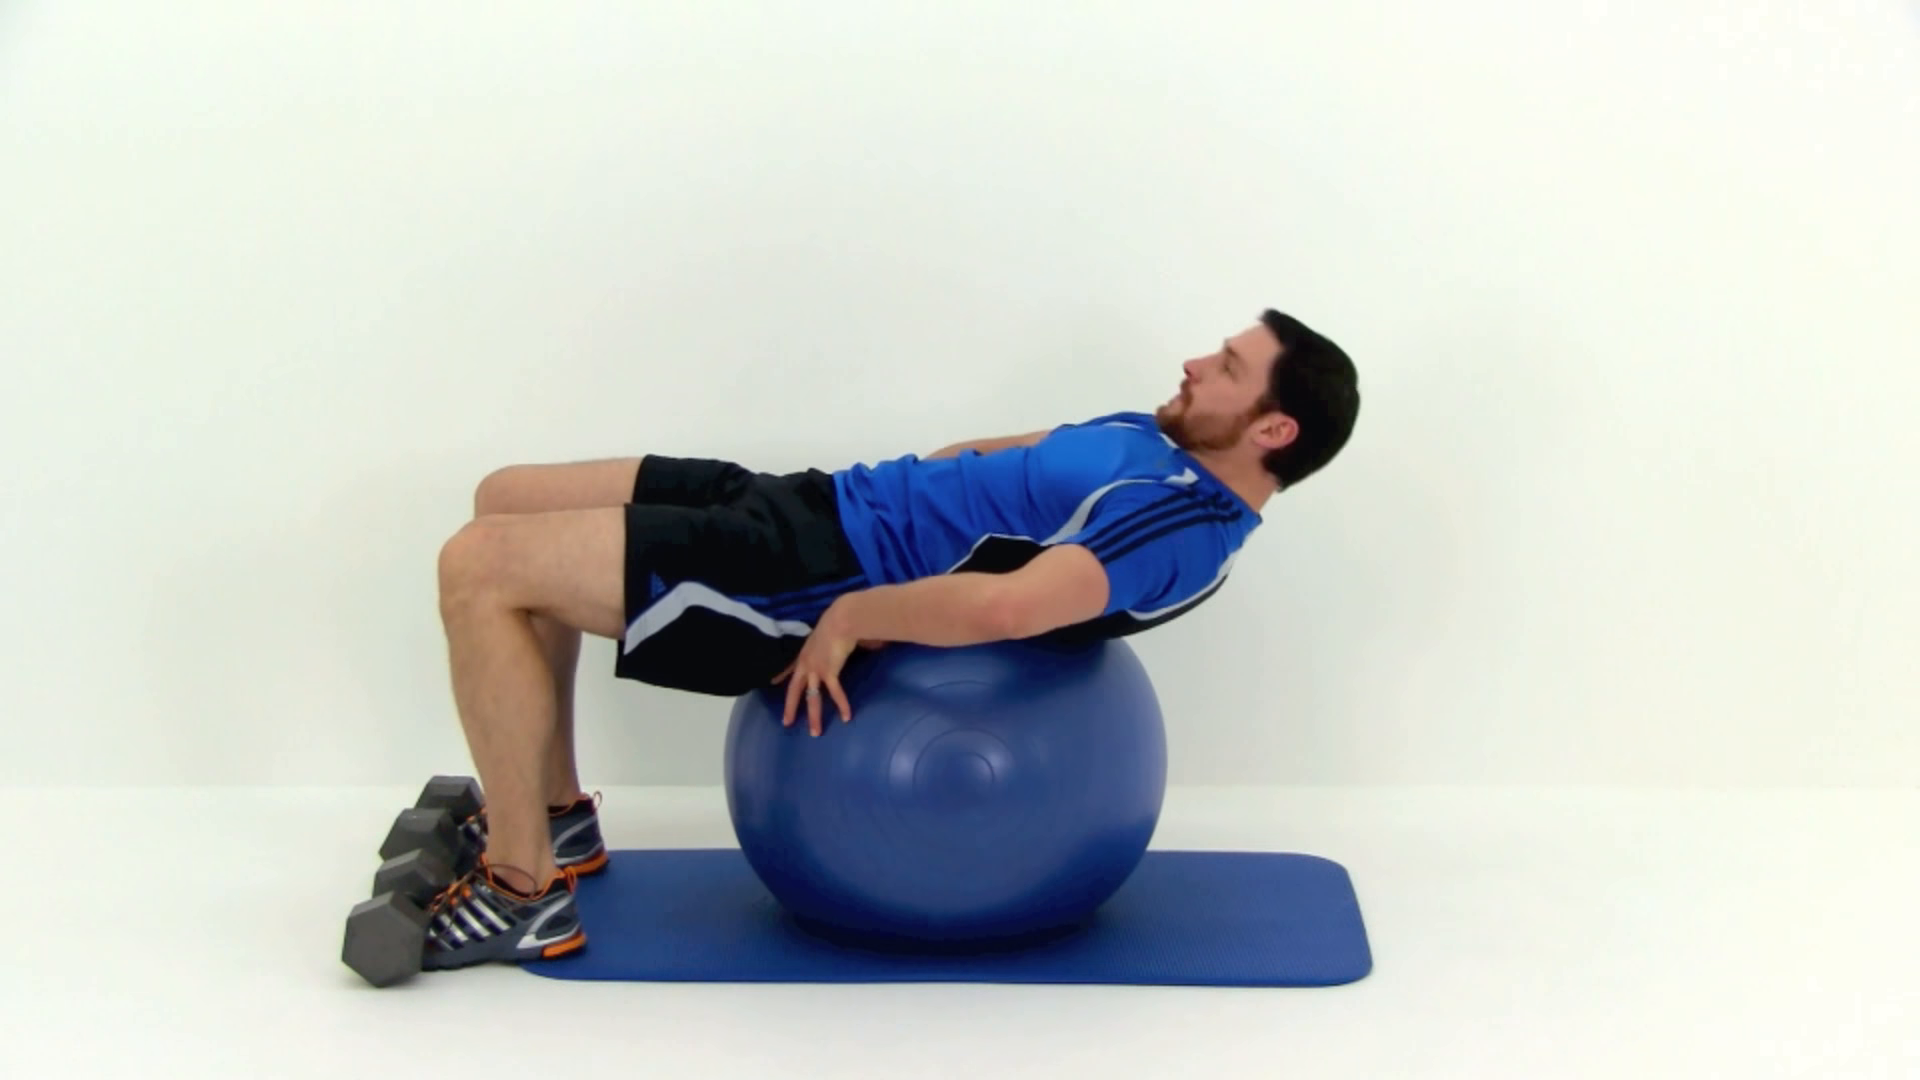yogaball: (716, 615, 1182, 981)
